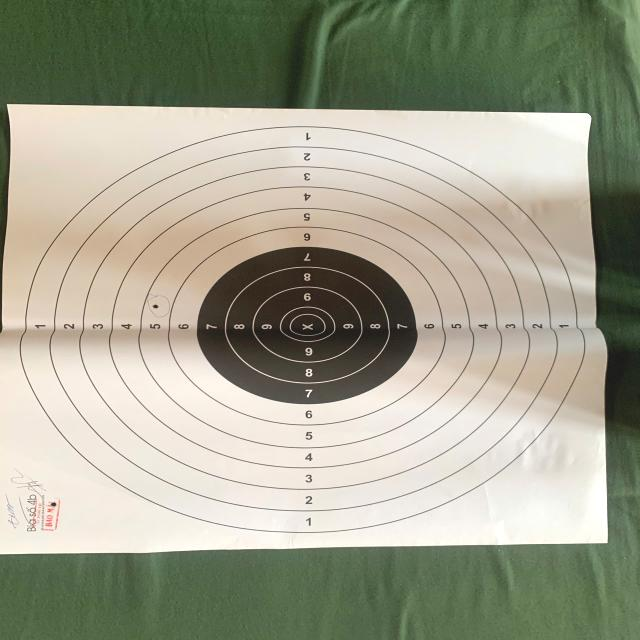bullet: (152, 304, 160, 308)
target: (0, 104, 604, 552)
